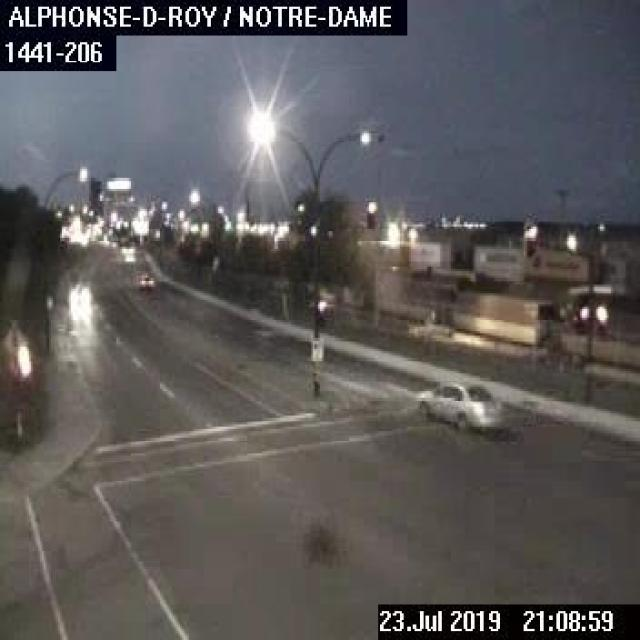vehicle: (415, 376, 507, 431), (138, 271, 158, 286)
